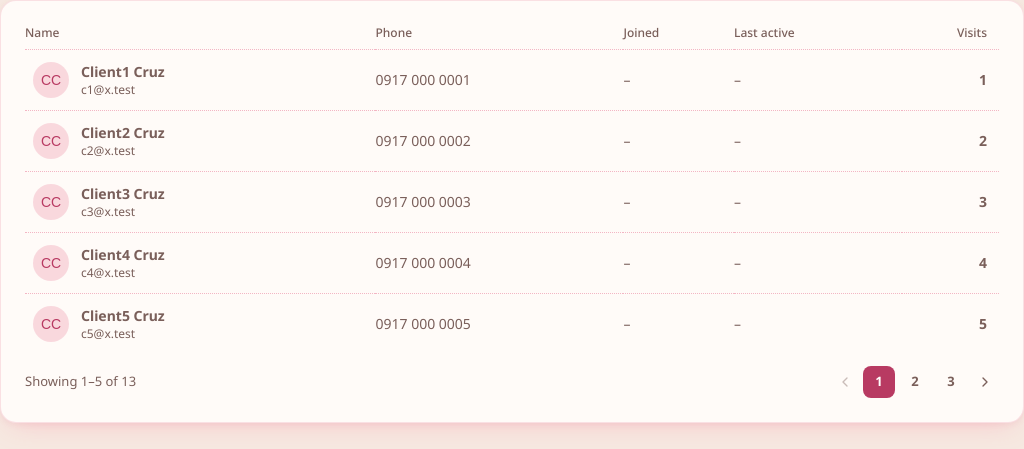
Test: DirectoryTable › pages through the rest
This screenshot has width=1024, height=449.
Click the button named "Page 3" at x=951, y=382, box [935,366,967,398]
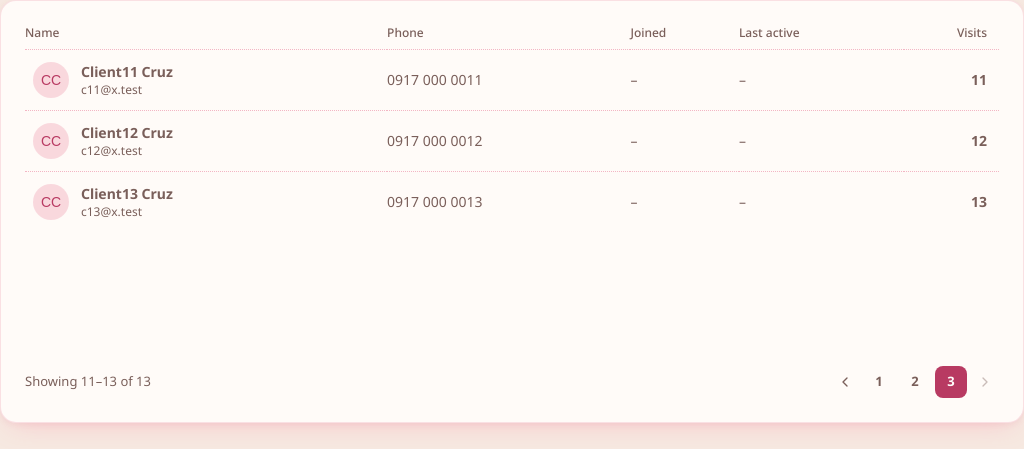
expect the text "Showing 11–13 of 13" is shown: met, box [25,372,151,392]
